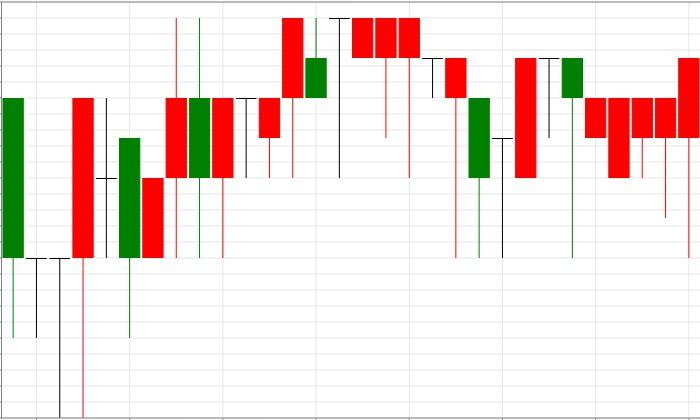evening_star_fall: (468, 57, 584, 258)
hanging_man_fall: (48, 17, 421, 417)
